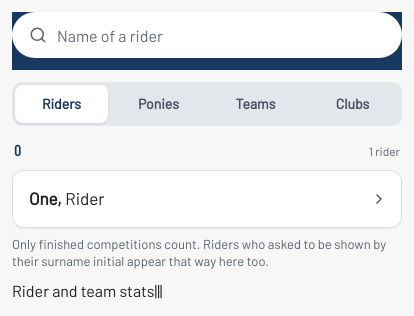
Test case: StatsPage browse › switches between riders, ponies, teams and clubs with the tabs
Expected: the link "One, Rider" is shown, [13, 170, 401, 226]
Click the link "Ponies". click: point(159, 104)
box: [138, 95, 179, 112]
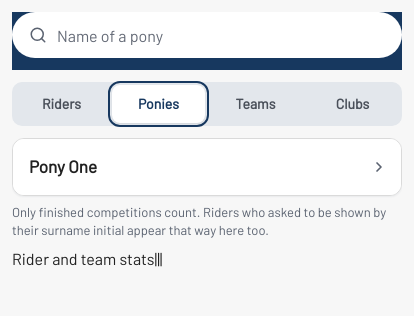
Expected: the link "Pony One" has attribute href="/stats/ponies?name=pony%20one", [13, 139, 401, 195]
Expected: the link "Ponies" is marked as current, [112, 85, 205, 123]
Click the link "Teams". click: point(256, 104)
box: [236, 95, 276, 112]
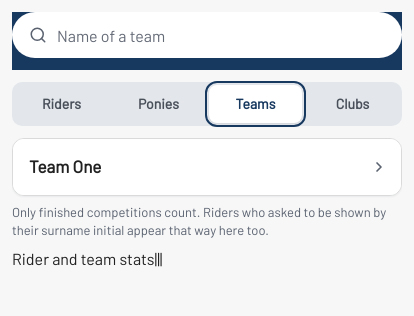
Expected: the link "Team One" has attribute href="/stats/teams?name=team%20one", [13, 139, 401, 195]
Expected: the link "Teams" is marked as current, [209, 85, 302, 123]
Click the link "Clubs". click: point(352, 104)
box: [336, 95, 369, 112]
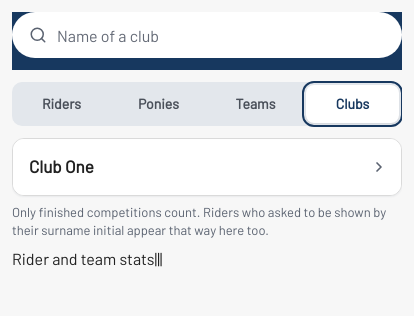
Expected: the link "Club One" has attribute href="/stats/clubs?name=club%20one", [13, 139, 401, 195]
Expected: the link "Clubs" is marked as current, [306, 85, 399, 123]
Expected: the search field has attribute placeholder="Name of a club", [57, 13, 385, 57]
Click the link "Riders". click: point(62, 104)
box: [42, 95, 81, 112]
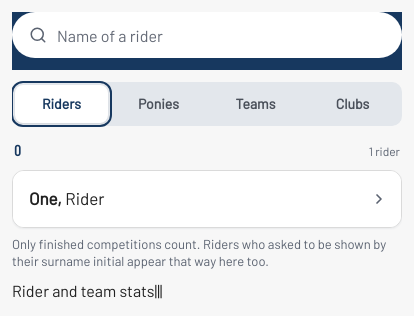
Expected: the link "One, Rider" is shown, [13, 170, 401, 226]
